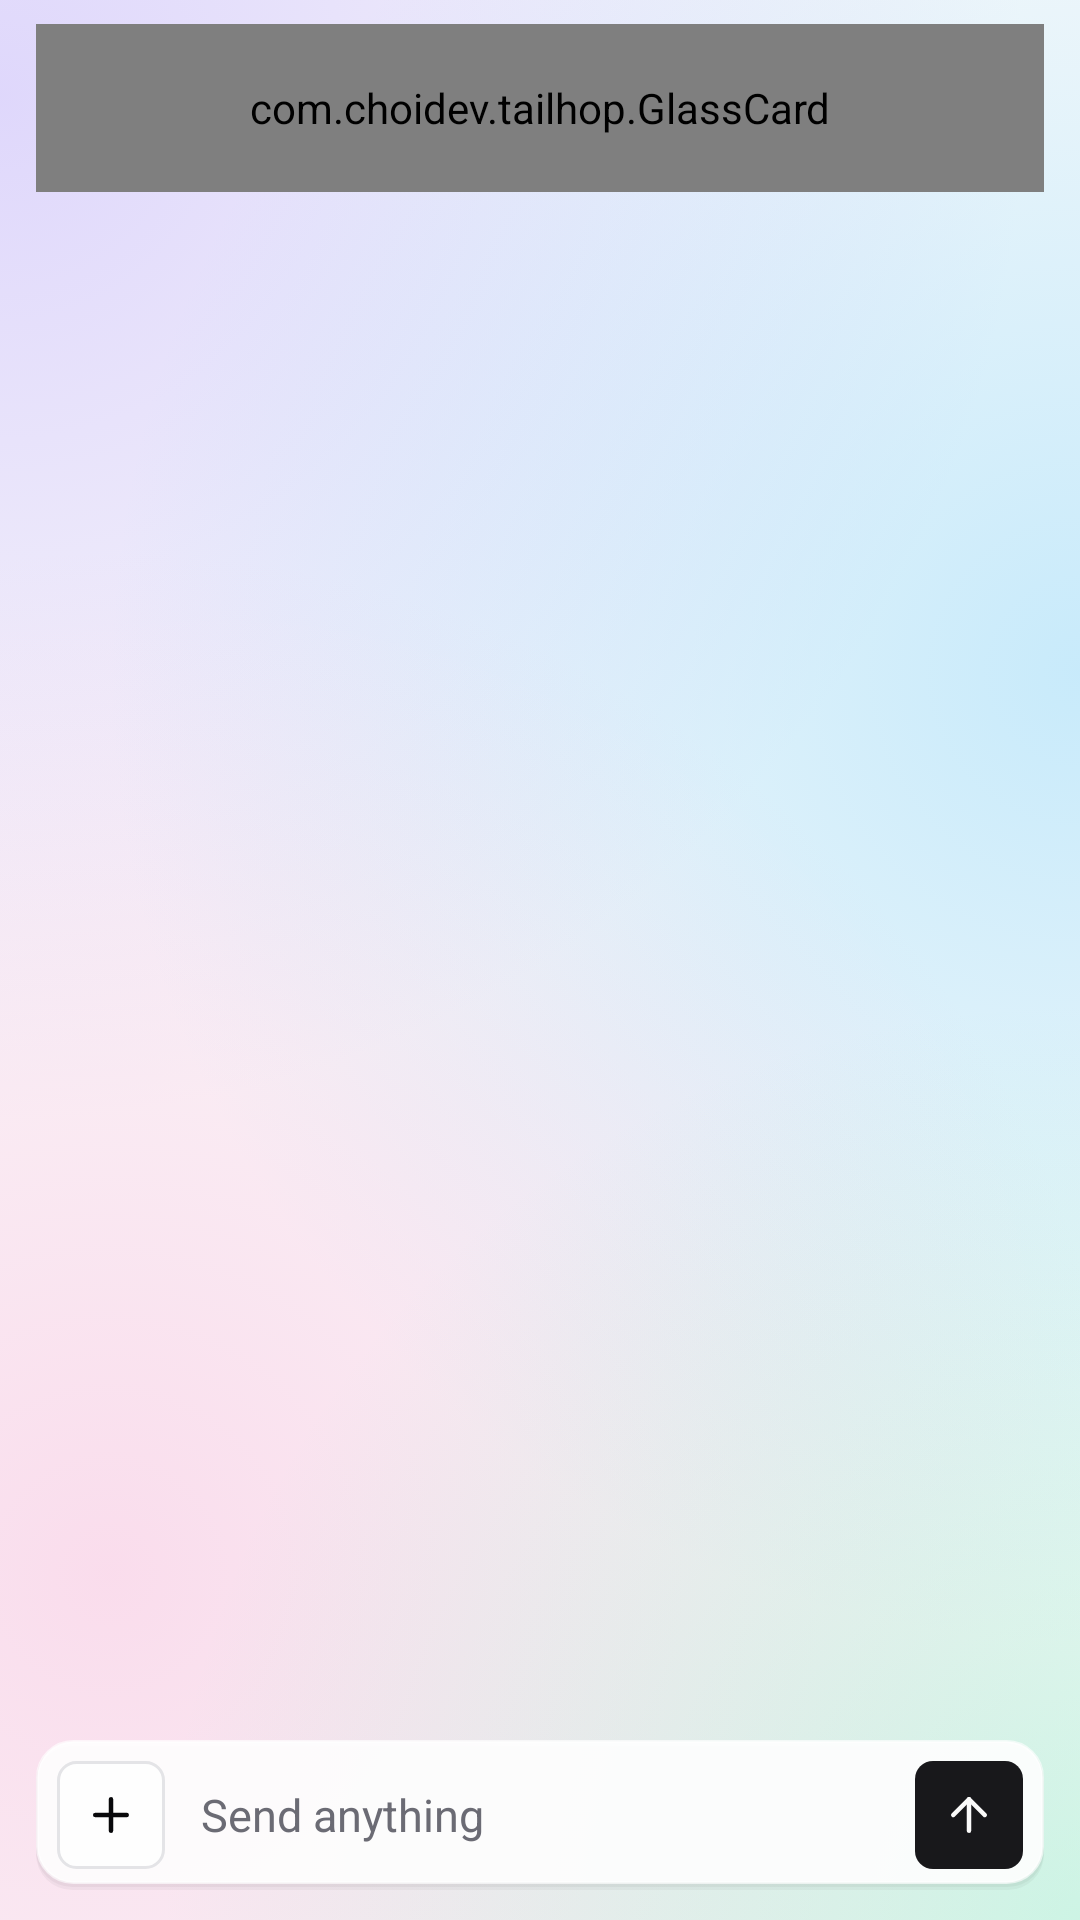

Point at icon controls on the screen. Image size 1080 x 1920, points as point (x, y).
Send files: point (111, 1815)
